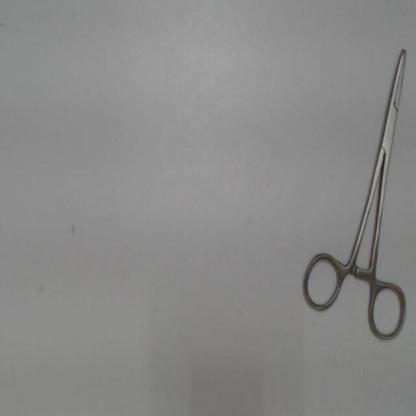Mayo Needle Holder: (298, 40, 412, 348)
